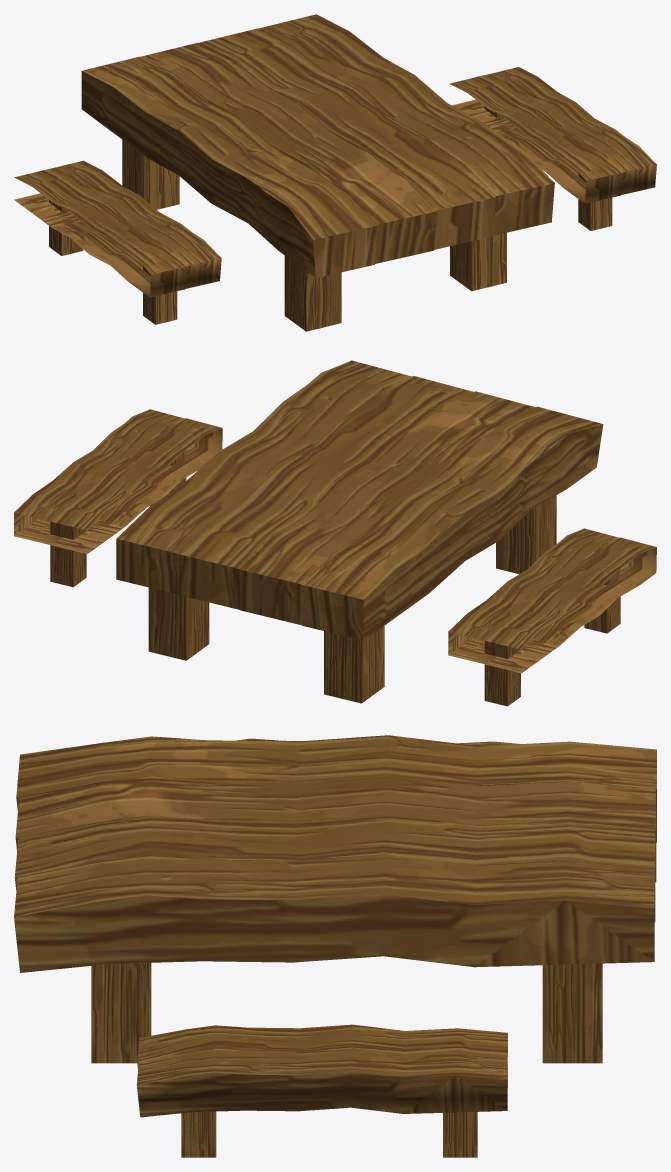
The model's file is Table_chair.fbx.
3 renders of one model, top to bottom at view 1: azimuth 30°, elevation 25°; view 2: azimuth 150°, elevation 25°; view 3: azimuth 270°, elevation 25°, orthographic. The views are drawn at different scales.
Visible parts, largest first — view 1: table.003, 1, 2; view 2: table.003, 1, 2; view 3: table.003, 2.
Boxes of the visible parts, left/top/right/bottom form: table.003: left=81, top=14, right=554, bottom=331; 1: left=14, top=160, right=221, bottom=324; 2: left=449, top=67, right=656, bottom=230; table.003: left=116, top=360, right=603, bottom=703; 1: left=448, top=528, right=656, bottom=706; 2: left=14, top=409, right=222, bottom=587; table.003: left=14, top=735, right=656, bottom=1063; 2: left=136, top=1024, right=507, bottom=1157.
Size of the model in its own units: 105 by 26.01 by 84.77.
